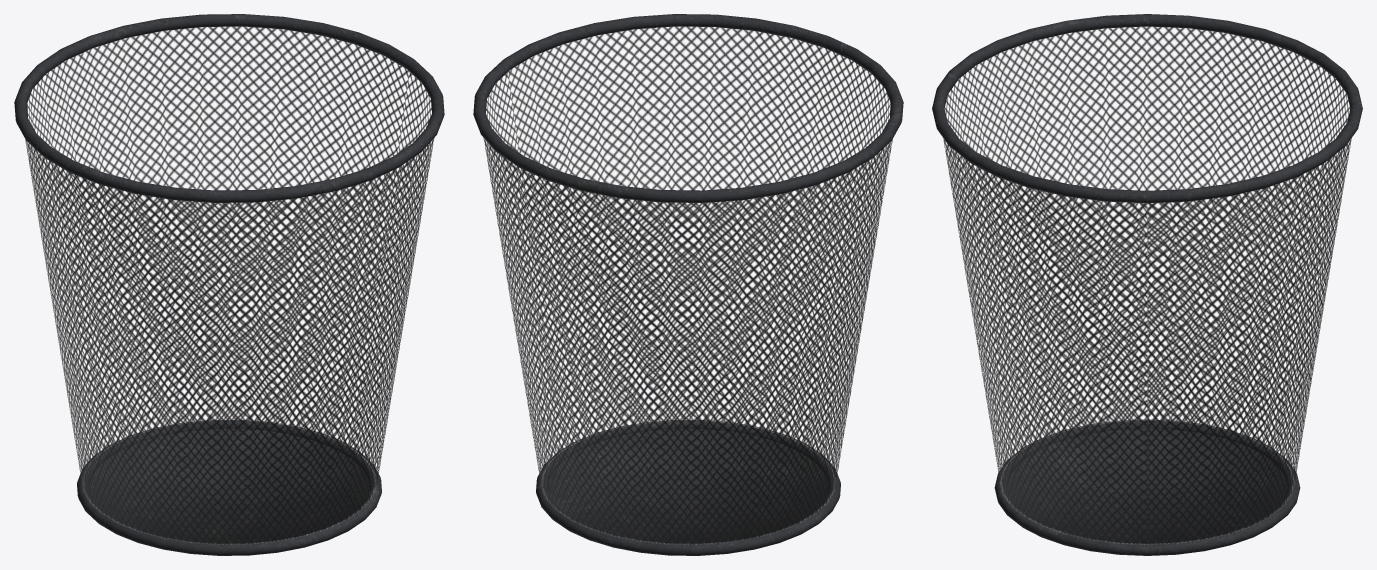
Rendered from trash_can.glb.
The picture shows the model from 3 angles, left to right: view 1: azimuth 30°, elevation 25°; view 2: azimuth 150°, elevation 25°; view 3: azimuth 270°, elevation 25°; orthographic projection.
Visible parts, largest first — view 1: SM_TrashCan; view 2: SM_TrashCan; view 3: SM_TrashCan.
Part boxes in pixels (x1=…): SM_TrashCan: x1=14, y1=14, x2=444, y2=555; SM_TrashCan: x1=473, y1=14, x2=903, y2=555; SM_TrashCan: x1=932, y1=14, x2=1362, y2=555.
Size of the model in its own units: 0.2678 by 0.2678 by 0.2678.
1 material, 1 textured.
